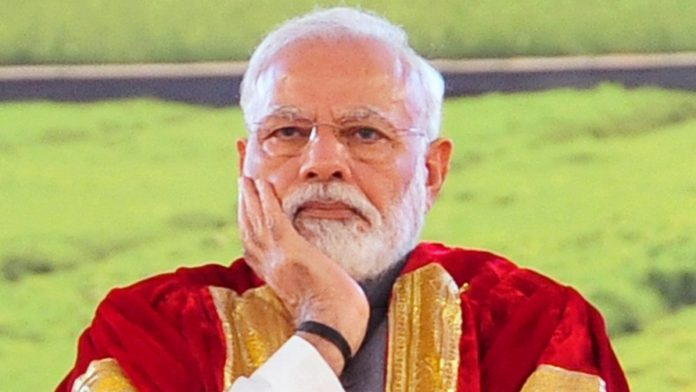modi: (187, 1, 490, 303)
